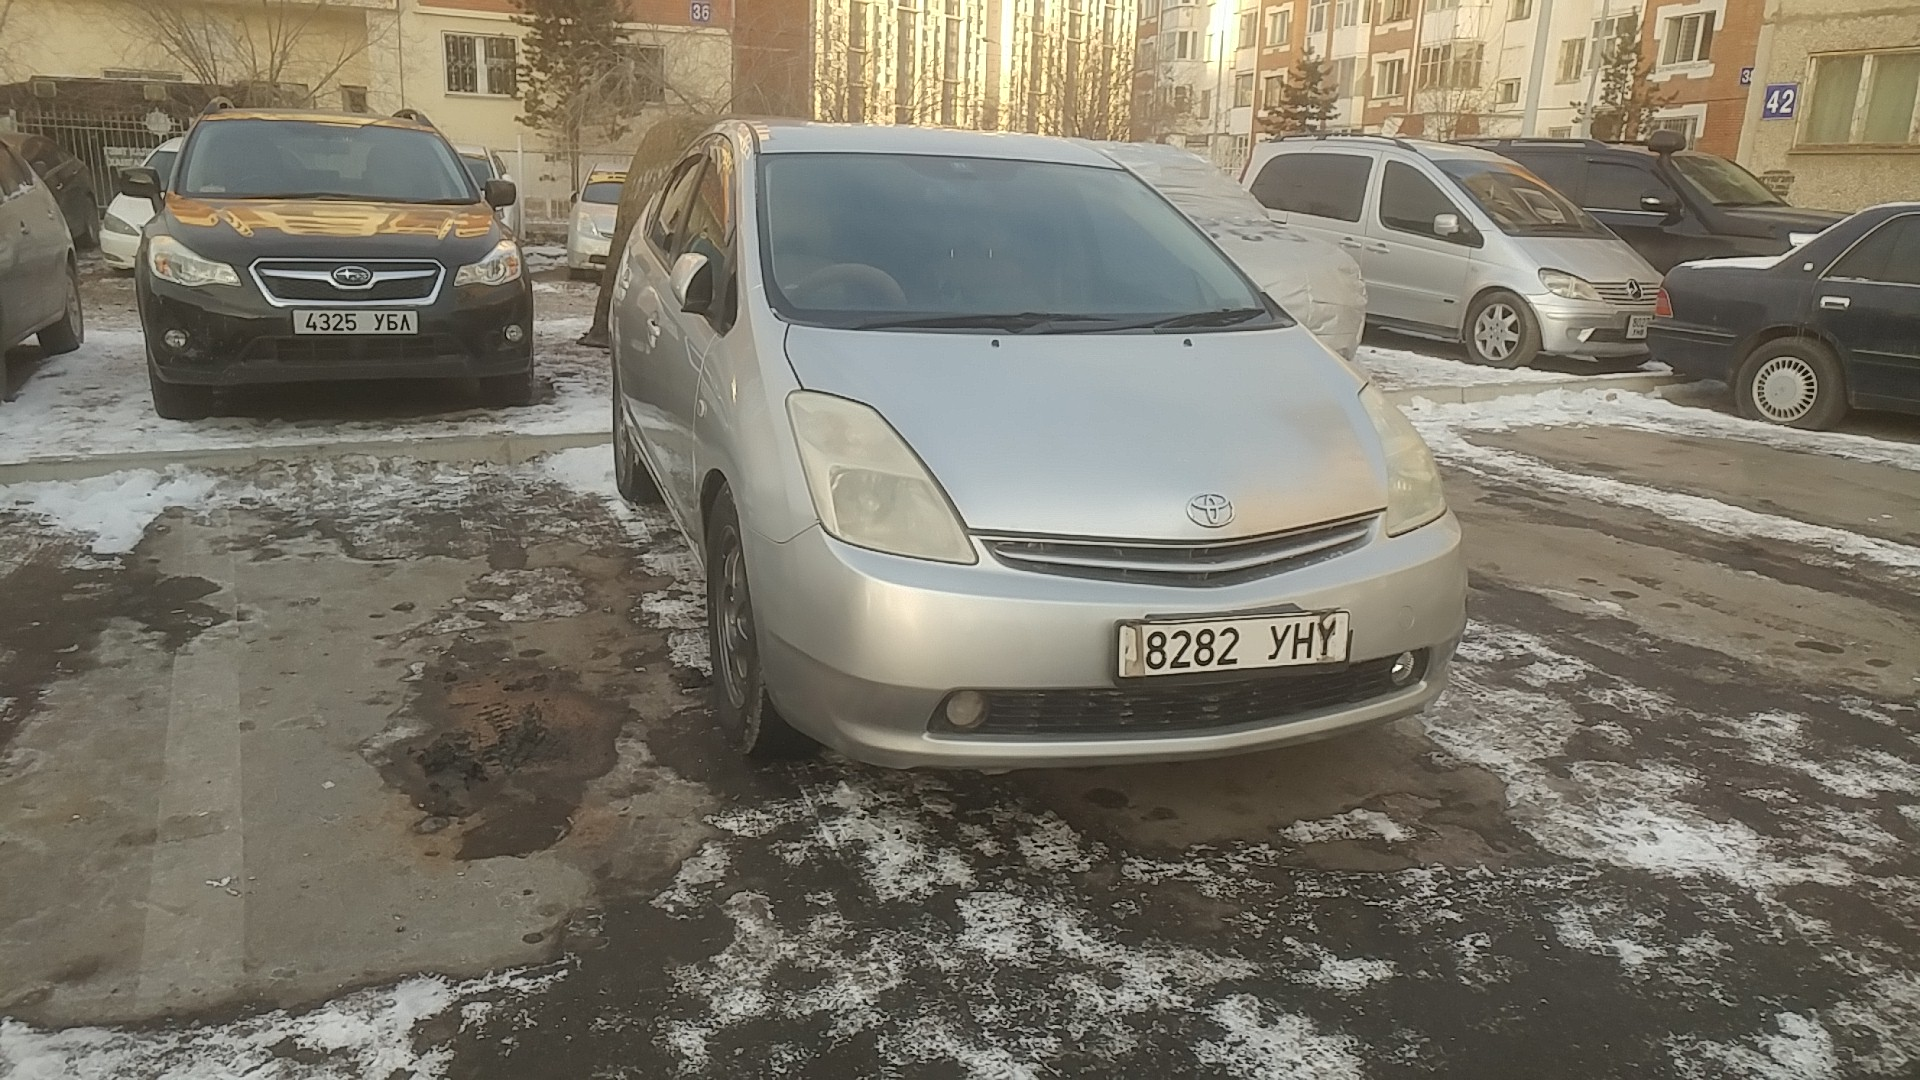2: (1169, 629, 1193, 668), (1217, 626, 1240, 667)
8: (1194, 627, 1217, 666), (1145, 630, 1169, 669)
n: (1291, 620, 1316, 662)
plate: (1116, 604, 1352, 678)
u: (1266, 624, 1291, 660)
uu: (1316, 618, 1338, 659)
